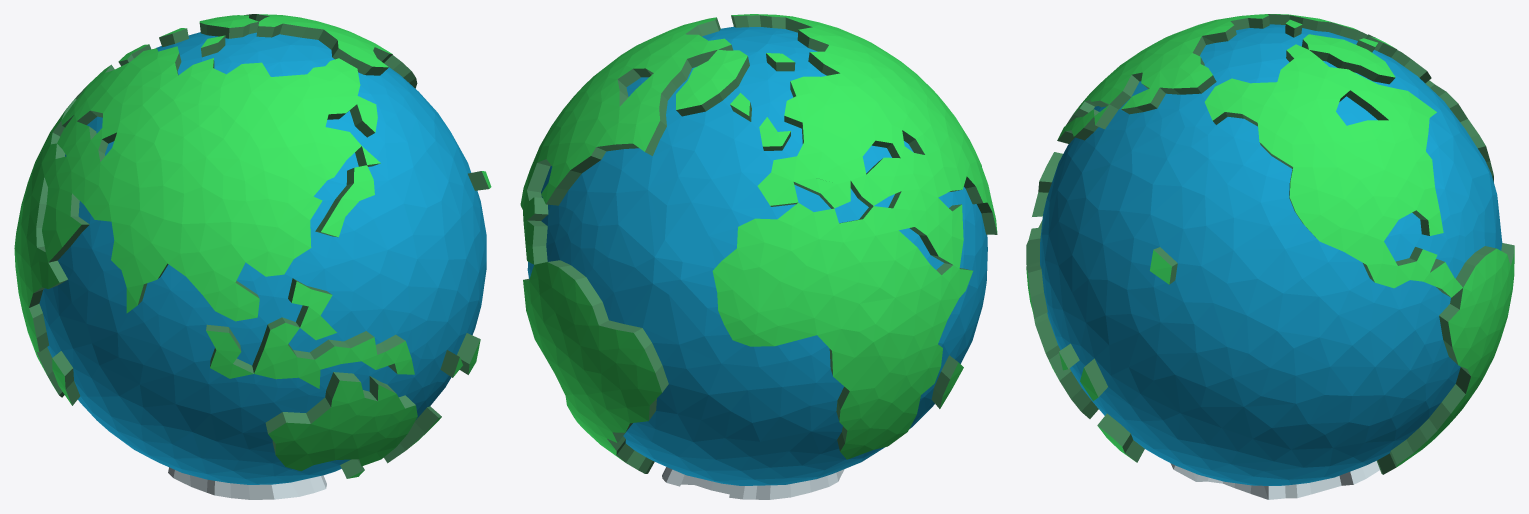
Rendered from low_poly_earth.gltf.
3 renders of one model, left to right at view 1: azimuth 30°, elevation 25°; view 2: azimuth 150°, elevation 25°; view 3: azimuth 270°, elevation 25°, orthographic.
Visible parts, largest first — view 1: Sphere; view 2: Sphere; view 3: Sphere.
Part boxes in pixels (x1,y1,x2,y2): Sphere: (14, 14, 491, 499); Sphere: (520, 14, 997, 499); Sphere: (1026, 14, 1514, 499).
Size of the model in its own units: 2.04 by 2.11 by 2.11.
